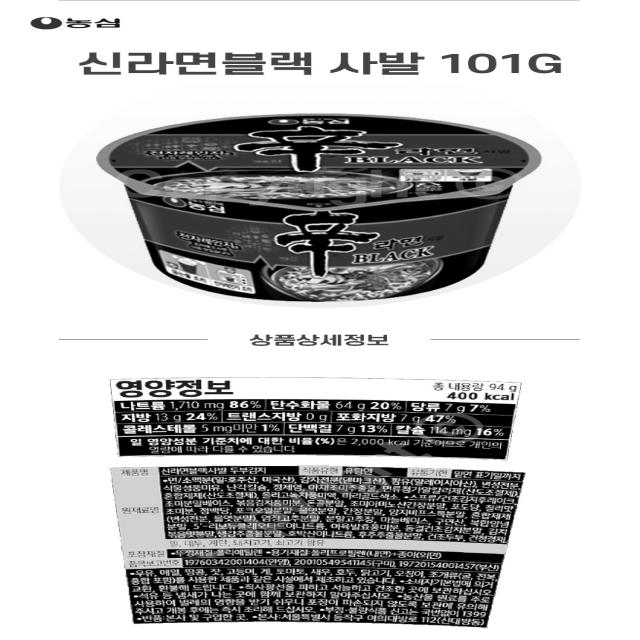Nutrition Label: (92, 371, 536, 462)
